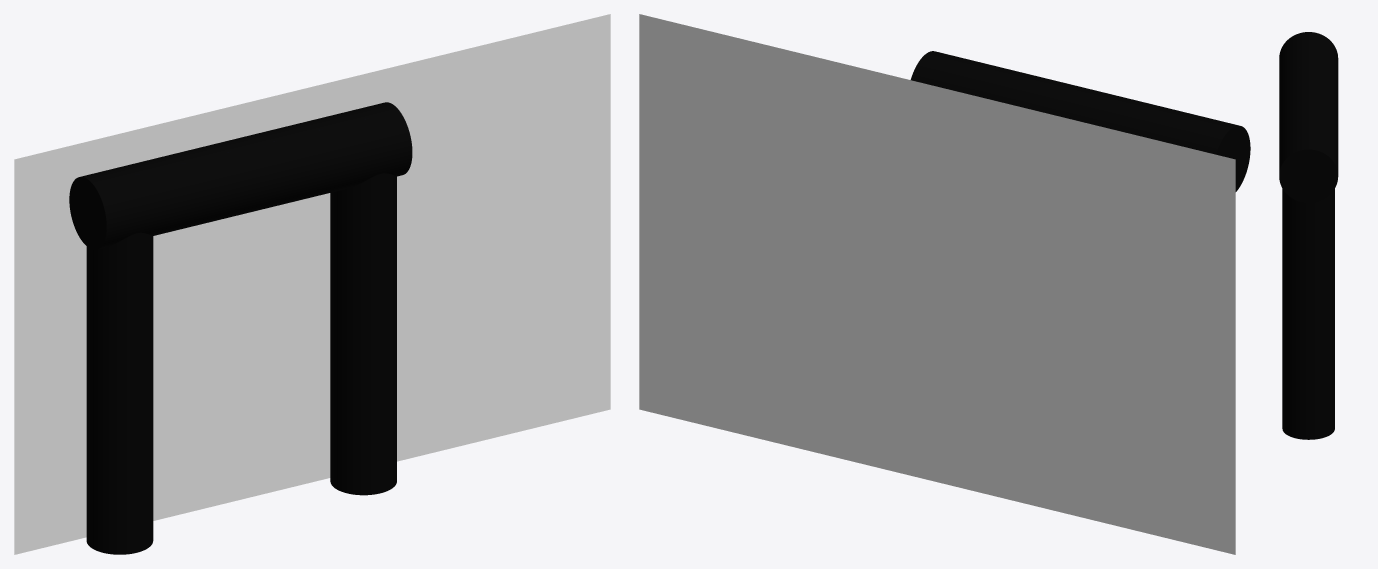
File: Rahmen.glb
3 views of the same model, side by side, from view 1: azimuth 30°, elevation 25°; view 2: azimuth 150°, elevation 25°; view 3: azimuth 270°, elevation 25° (orthographic). The views are drawn at different scales.
Parts seen in each view (by area): view 1: mesh_id1, mesh_id36, mesh_id27, mesh_id42; view 2: mesh_id1, mesh_id36; view 3: mesh_id42, mesh_id36.
Boxes of the visible parts, x1=… form: mesh_id1: x1=14, y1=14, x2=610, y2=554; mesh_id36: x1=69, y1=102, x2=412, y2=249; mesh_id27: x1=86, y1=232, x2=153, y2=554; mesh_id42: x1=330, y1=173, x2=396, y2=495; mesh_id1: x1=639, y1=14, x2=1235, y2=554; mesh_id36: x1=910, y1=51, x2=1250, y2=191; mesh_id42: x1=1282, y1=189, x2=1334, y2=439; mesh_id36: x1=1279, y1=32, x2=1338, y2=202.
Bounding box in the file's own units: 1.97 × 1.25 × 0.307.
Materials: 4 (4 with a texture image).
